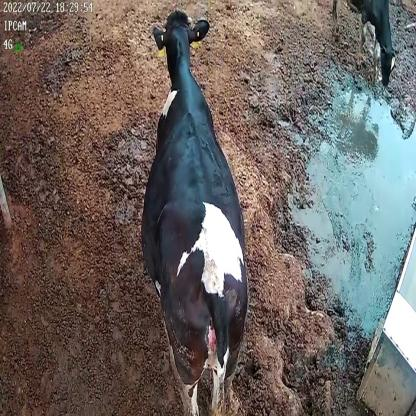cow: (142, 9, 248, 416)
